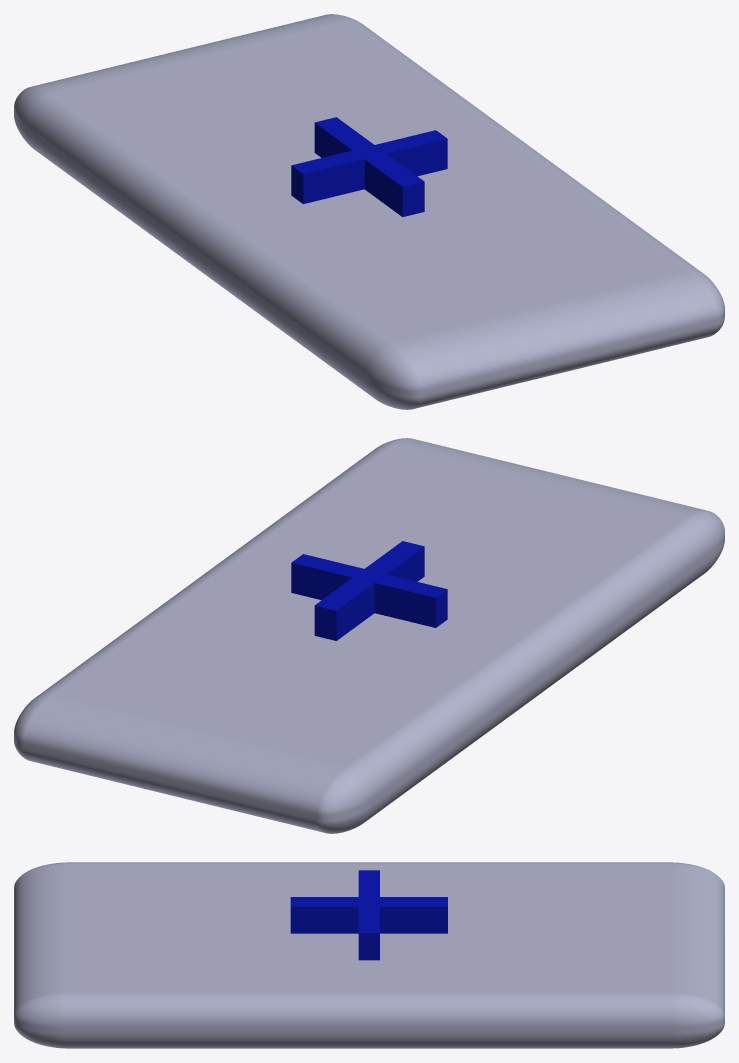
The model's file is buttonPlus.glb.
3 renders of one model, top to bottom at view 1: azimuth 30°, elevation 25°; view 2: azimuth 150°, elevation 25°; view 3: azimuth 270°, elevation 25°, orthographic. The views are drawn at different scales.
Parts seen in each view (by area): view 1: Box, 3D Text - +; view 2: Box, 3D Text - +; view 3: Box, 3D Text - +.
Part boxes in pixels (x1,y1,x2,y2): Box: [14, 14, 724, 409]; 3D Text - +: [291, 117, 447, 216]; Box: [14, 438, 724, 833]; 3D Text - +: [291, 541, 447, 640]; Box: [14, 862, 724, 1048]; 3D Text - +: [290, 870, 447, 960].
Size of the model in its own units: 0.1 by 0.0249 by 0.2.
